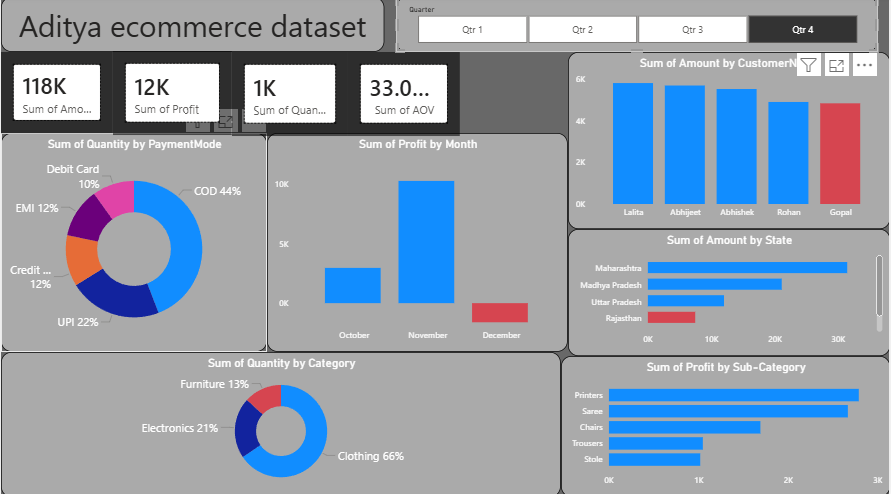

Layout of this report page (visuals, bound fields, positions):
{"tool":"powerbi","page":{"name":"Page 1","canvas":[1280,720],"ordinal":0},"visuals":[{"type":"textbox","box":[0,0,551.5,79.2],"z":0},{"type":"columnChart","fields":{"Category":["power bi data set 2.Order Date.Variation.Date Hierarchy.Month"],"Y":["Sum(power bi data set 1.Profit)"]},"box":[383,195.8,433.4,315.4],"z":1000},{"type":"barChart","fields":{"Category":["power bi data set 1.Sub-Category"],"Y":["Sum(power bi data set 1.Profit)"]},"box":[806.4,517,473.8,203],"z":2000},{"type":"donutChart","fields":{"Category":["power bi data set 1.Category"],"Y":["Sum(power bi data set 1.Quantity)"]},"box":[0,511.2,806.4,208.8],"z":3000},{"type":"donutChart","fields":{"Y":["Sum(power bi data set 1.Quantity)"],"Category":["power bi data set 1.PaymentMode"]},"box":[0,195.8,383,315.4],"z":4000},{"type":"cardVisual","fields":{"Data":["Sum(power bi data set 1.Amount)"]},"box":[0,79.2,161.3,116.6],"z":5000},{"type":"cardVisual","fields":{"Data":["Sum(power bi data set 1.Profit)"]},"box":[161.3,77.8,171.4,121],"z":6000},{"type":"cardVisual","fields":{"Data":["Sum(power bi data set 1.Quantity)"]},"box":[332.6,79.2,167,121],"z":7000},{"type":"cardVisual","fields":{"Data":["Sum(power bi data set 1.AOV)"]},"box":[499.7,79.2,161.3,121],"z":8000},{"type":"barChart","fields":{"Category":["power bi data set 2.State"],"Y":["Sum(power bi data set 1.Amount)"]},"box":[816.5,334.1,463.7,182.9],"z":9000},{"type":"columnChart","fields":{"Category":["power bi data set 2.CustomerName"],"Y":["Sum(power bi data set 1.Amount)"]},"box":[816.5,79.2,463.7,254.9],"z":10000},{"type":"slicer","fields":{"Values":["power bi data set 2.Order Date.Variation.Date Hierarchy.Quarter"]},"box":[568.8,0,694.1,79.2],"z":11000}]}

Visuals, with their boxes in screenshot pixels (x1, y1, x2, y2), scaled from the page's 1280x720 canvas onto the 891x494 screenshot:
textbox: locate(0, 0, 384, 54)
columnChart - power bi data set 2.Order Date.Variation.Date Hierarchy.Month x Sum(power bi data set 1.Profit): locate(267, 134, 568, 351)
barChart - power bi data set 1.Sub-Category x Sum(power bi data set 1.Profit): locate(561, 355, 890, 493)
donutChart - power bi data set 1.Category x Sum(power bi data set 1.Quantity): locate(0, 351, 561, 493)
donutChart - Sum(power bi data set 1.Quantity) x power bi data set 1.PaymentMode: locate(0, 134, 267, 351)
cardVisual - Sum(power bi data set 1.Amount): locate(0, 54, 112, 134)
cardVisual - Sum(power bi data set 1.Profit): locate(112, 53, 232, 136)
cardVisual - Sum(power bi data set 1.Quantity): locate(232, 54, 348, 137)
cardVisual - Sum(power bi data set 1.AOV): locate(348, 54, 460, 137)
barChart - power bi data set 2.State x Sum(power bi data set 1.Amount): locate(568, 229, 890, 355)
columnChart - power bi data set 2.CustomerName x Sum(power bi data set 1.Amount): locate(568, 54, 890, 229)
slicer - power bi data set 2.Order Date.Variation.Date Hierarchy.Quarter: locate(396, 0, 879, 54)
